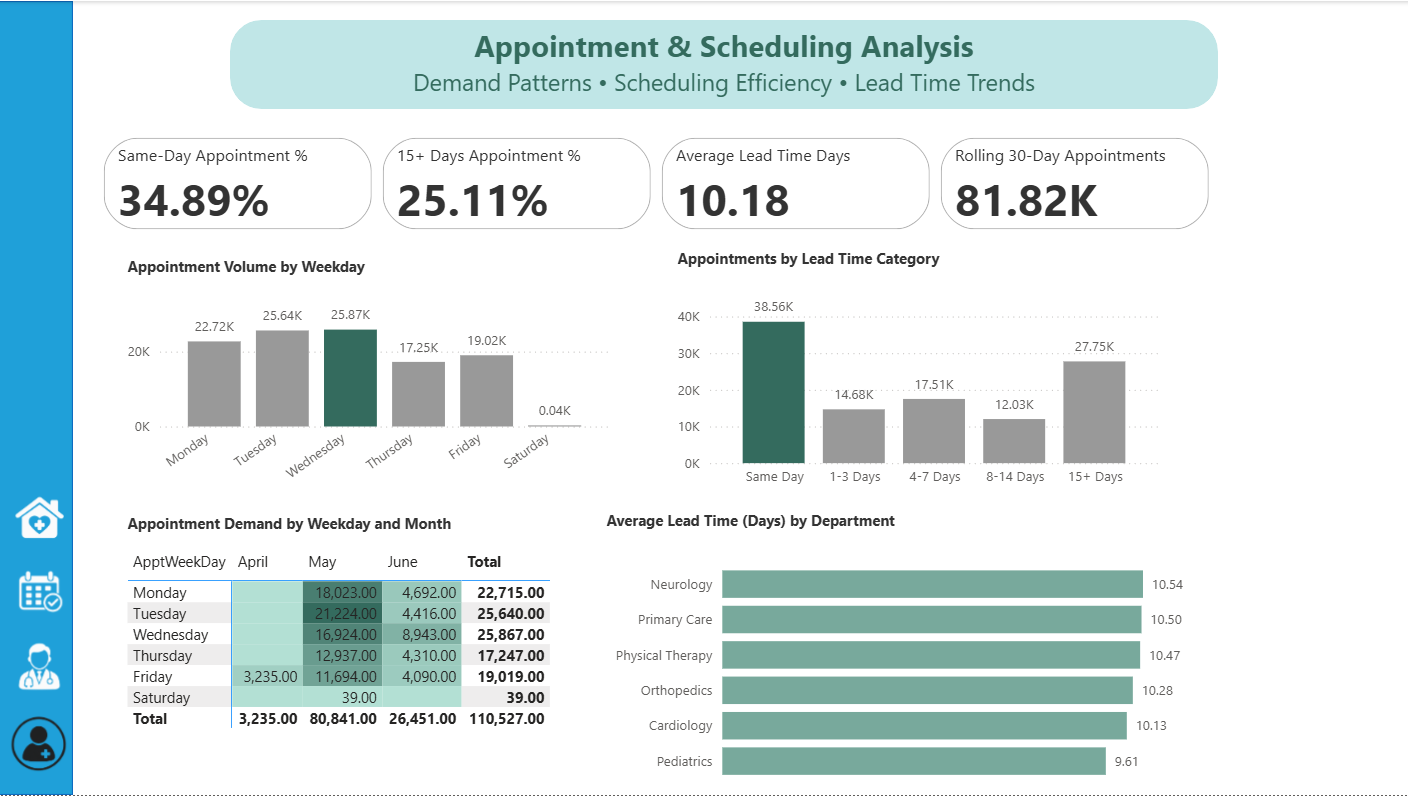

The dashboard page shown, as its layout file describes it:
{"tool":"powerbi","page":{"name":"Appointment & Scheduling Analysis","canvas":[1280,720],"ordinal":3},"visuals":[{"type":"shape","box":[0,0,68,720],"z":0},{"type":"cardVisual","fields":{"Data":["Measure Table.Same-Day Appointment %","Measure Table.15+ Days Appointment %","Measure Table.Average Lead Time Days","Measure Table.Rolling 30-Day Appts"]},"box":[78.9,107,1039.2,117.9],"z":1000},{"type":"shape","box":[210.5,17,895.9,80.8],"z":2000},{"type":"textbox","box":[220.5,17,875.9,84.8],"z":3000},{"type":"columnChart","title":"Appointment Volume by Weekday","fields":{"Category":["CalendarDim.ApptWeekDay"],"Y":["Measure Table.Total Appointments"]},"box":[112.7,232.3,447.5,217.7],"z":4000},{"type":"columnChart","title":"Appointments by Lead Time Category","fields":{"Category":["FactAppointments.LeadTimeCategory2"],"Y":["Measure Table.Total Appointments"]},"box":[611,225.3,447.2,224.2],"z":5000},{"type":"pivotTable","title":"Appointment Demand by Weekday and Month","fields":{"Columns":["CalendarDim.ApptMonth"],"Rows":["CalendarDim.ApptWeekDay"],"Values":["Measure Table.Total Appointments"]},"box":[112.2,465.6,413.3,254.4],"z":6000},{"type":"barChart","title":"Average Lead Time (Days) by Department","fields":{"Category":["DepartmentDim.Department"],"Y":["Measure Table.Average Lead Time Days"]},"box":[547.1,462.3,549.4,257.9],"z":7000},{"type":"actionButton","box":[0,429.8,75.5,76.7],"z":8000},{"type":"actionButton","box":[9.3,506.4,56.9,58.1],"z":9000},{"type":"actionButton","box":[9.3,573.8,56.9,58.1],"z":10000},{"type":"actionButton","box":[2.3,640,73.2,68.5],"z":11000}]}

Visuals, with their boxes on the page's 1280x720 design canvas (x1, y1, x2, y2). These are canvas units, not pixel positions in the 1408x796 screenshot, which may show the page scaled, cropped or inside an application window:
shape: Rect(0, 0, 68, 720)
cardVisual - Measure Table.Same-Day Appointment % x Measure Table.15+ Days Appointment %: Rect(79, 107, 1118, 225)
shape: Rect(210, 17, 1106, 98)
textbox: Rect(220, 17, 1096, 102)
"Appointment Volume by Weekday" columnChart: Rect(113, 232, 560, 450)
"Appointments by Lead Time Category" columnChart: Rect(611, 225, 1058, 450)
"Appointment Demand by Weekday and Month" pivotTable: Rect(112, 466, 526, 720)
"Average Lead Time (Days) by Department" barChart: Rect(547, 462, 1096, 720)
actionButton: Rect(0, 430, 76, 506)
actionButton: Rect(9, 506, 66, 564)
actionButton: Rect(9, 574, 66, 632)
actionButton: Rect(2, 640, 76, 708)
